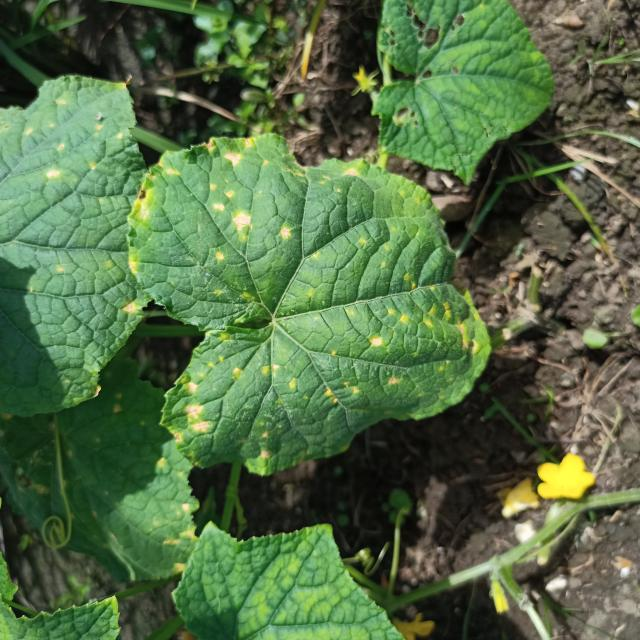disease_cucumber: (140, 138, 475, 445), (94, 396, 204, 567), (18, 104, 130, 174)
